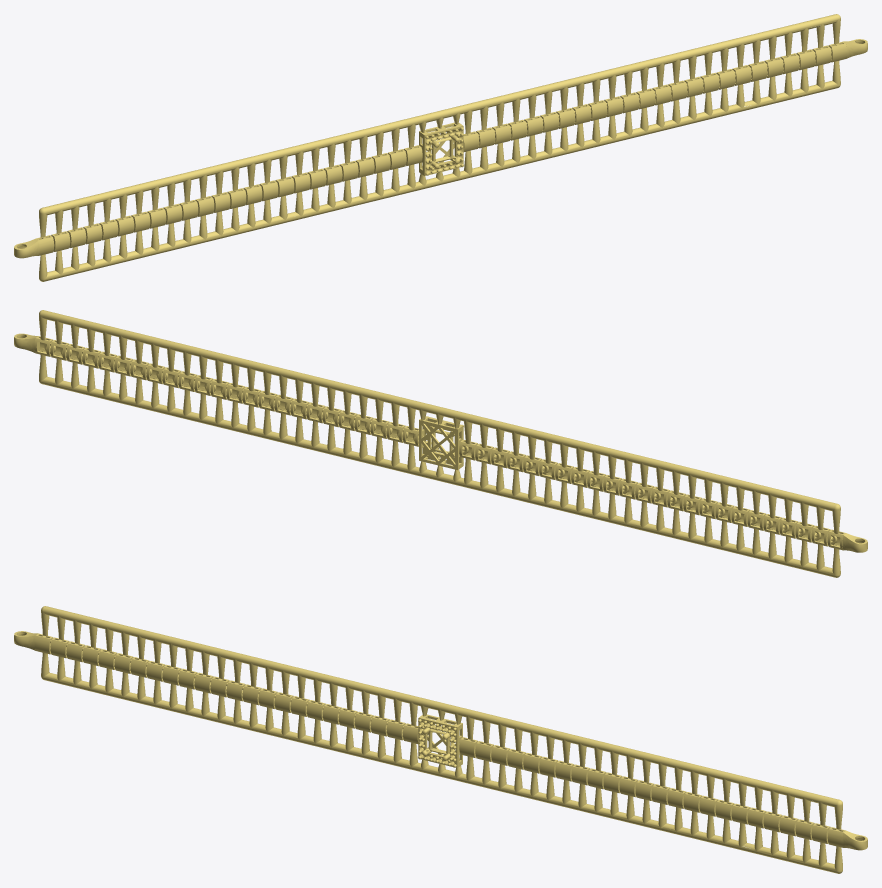
Rendered from yzn5-97_4.glb.
3 views of the same model, one above another, from view 1: azimuth 30°, elevation 25°; view 2: azimuth 150°, elevation 25°; view 3: azimuth 330°, elevation 25° (orthographic).
Parts seen in each view (by area): view 1: Renderer Node; view 2: Renderer Node; view 3: Renderer Node.
Boxes of the visible parts, x1,y1,x2,y2 form: Renderer Node: (14,14,867,281); Renderer Node: (14,310,867,577); Renderer Node: (14,606,867,873).
Size of the model in its own units: 174 by 14.29 by 3.97.
